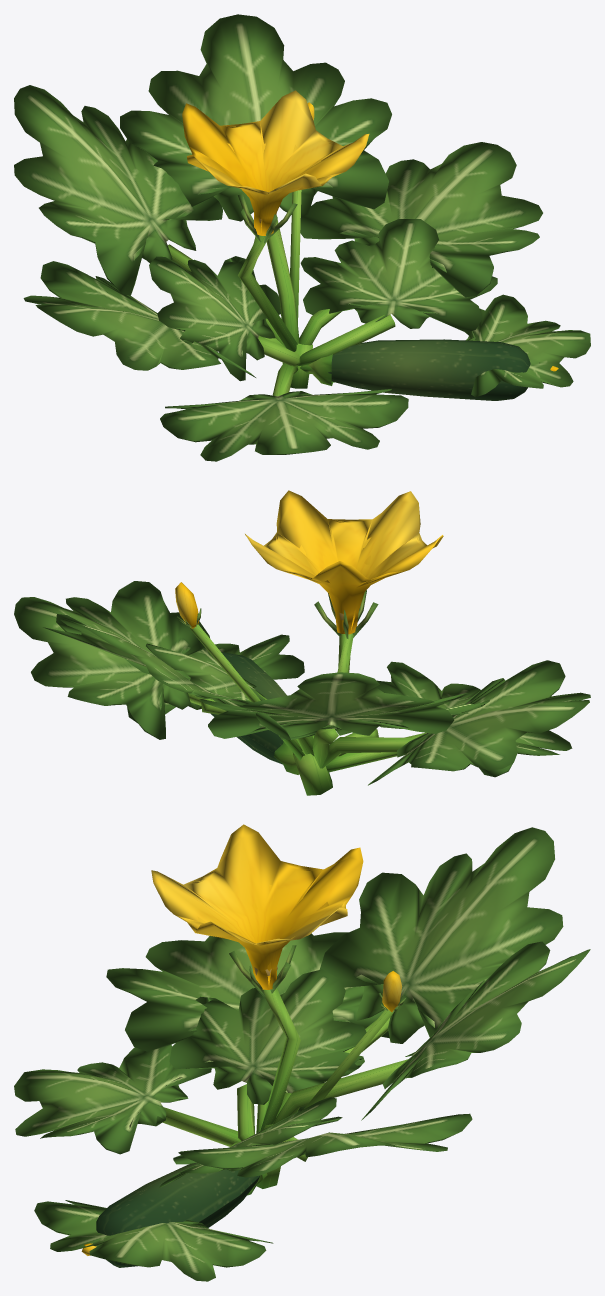
Rendered from NP_Zucchini_Flowering_LOD1.fbx.
3 views of the same model, one above another, from view 1: azimuth 30°, elevation 25°; view 2: azimuth 150°, elevation 25°; view 3: azimuth 270°, elevation 25° (orthographic). The views are drawn at different scales.
Parts seen in each view (by area): view 1: NP_Zucchini_Flowering; view 2: NP_Zucchini_Flowering; view 3: NP_Zucchini_Flowering.
Boxes of the visible parts, x1,y1,x2,y2 form: NP_Zucchini_Flowering: [14, 14, 590, 461]; NP_Zucchini_Flowering: [14, 490, 590, 795]; NP_Zucchini_Flowering: [14, 824, 590, 1281].
Size of the model in its own units: 79.91 by 41.34 by 71.52.
